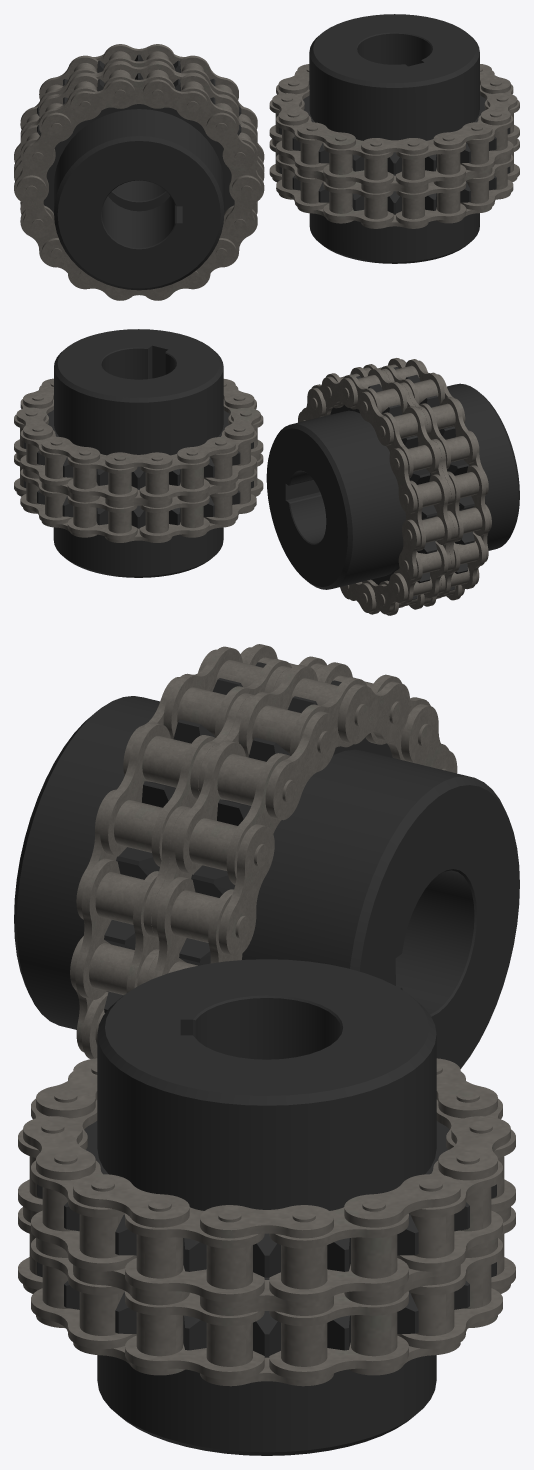
The model's file is chain couping.glb.
3 renders of one model, top to bottom at view 1: azimuth 30°, elevation 25°; view 2: azimuth 150°, elevation 25°; view 3: azimuth 270°, elevation 25°, orthographic. The views are drawn at different scales.
Parts seen in each view (by area): view 1: Chain_Coupling_assembly001003, Chain_Coupling_assembly001, Chain_Coupling_assembly007003, Chain_Coupling_assembly013003, Chain_Coupling_assembly013001, Chain_Coupling_assembly007002; view 2: Chain_Coupling_assembly001, Chain_Coupling_assembly001003, Chain_Coupling_assembly007002, Chain_Coupling_assembly013003, Chain_Coupling_assembly007003, Chain_Coupling_assembly013001; view 3: Chain_Coupling_assembly001, Chain_Coupling_assembly001003, Chain_Coupling_assembly013003, Chain_Coupling_assembly007002, Chain_Coupling_assembly013001, Chain_Coupling_assembly007003.
Boxes of the visible parts, bbox=[...] form: Chain_Coupling_assembly001003: bbox=[37, 54, 241, 290]; Chain_Coupling_assembly001: bbox=[279, 14, 510, 263]; Chain_Coupling_assembly007003: bbox=[14, 62, 264, 300]; Chain_Coupling_assembly013003: bbox=[269, 64, 519, 189]; Chain_Coupling_assembly013001: bbox=[269, 139, 519, 228]; Chain_Coupling_assembly007002: bbox=[14, 44, 264, 204]; Chain_Coupling_assembly001: bbox=[23, 329, 253, 577]; Chain_Coupling_assembly001003: bbox=[266, 367, 519, 599]; Chain_Coupling_assembly007002: bbox=[298, 367, 454, 615]; Chain_Coupling_assembly013003: bbox=[14, 378, 263, 504]; Chain_Coupling_assembly007003: bbox=[363, 358, 491, 606]; Chain_Coupling_assembly013001: bbox=[14, 453, 263, 542]; Chain_Coupling_assembly001: bbox=[37, 959, 496, 1455]; Chain_Coupling_assembly001003: bbox=[14, 662, 519, 1068]; Chain_Coupling_assembly013003: bbox=[18, 1058, 515, 1308]; Chain_Coupling_assembly007002: bbox=[146, 662, 457, 981]; Chain_Coupling_assembly013001: bbox=[18, 1207, 515, 1386]; Chain_Coupling_assembly007003: bbox=[70, 644, 326, 1059].
Size of the model in its own units: 0.3716 by 0.1736 by 0.1728.
3 materials, 2 textured.
